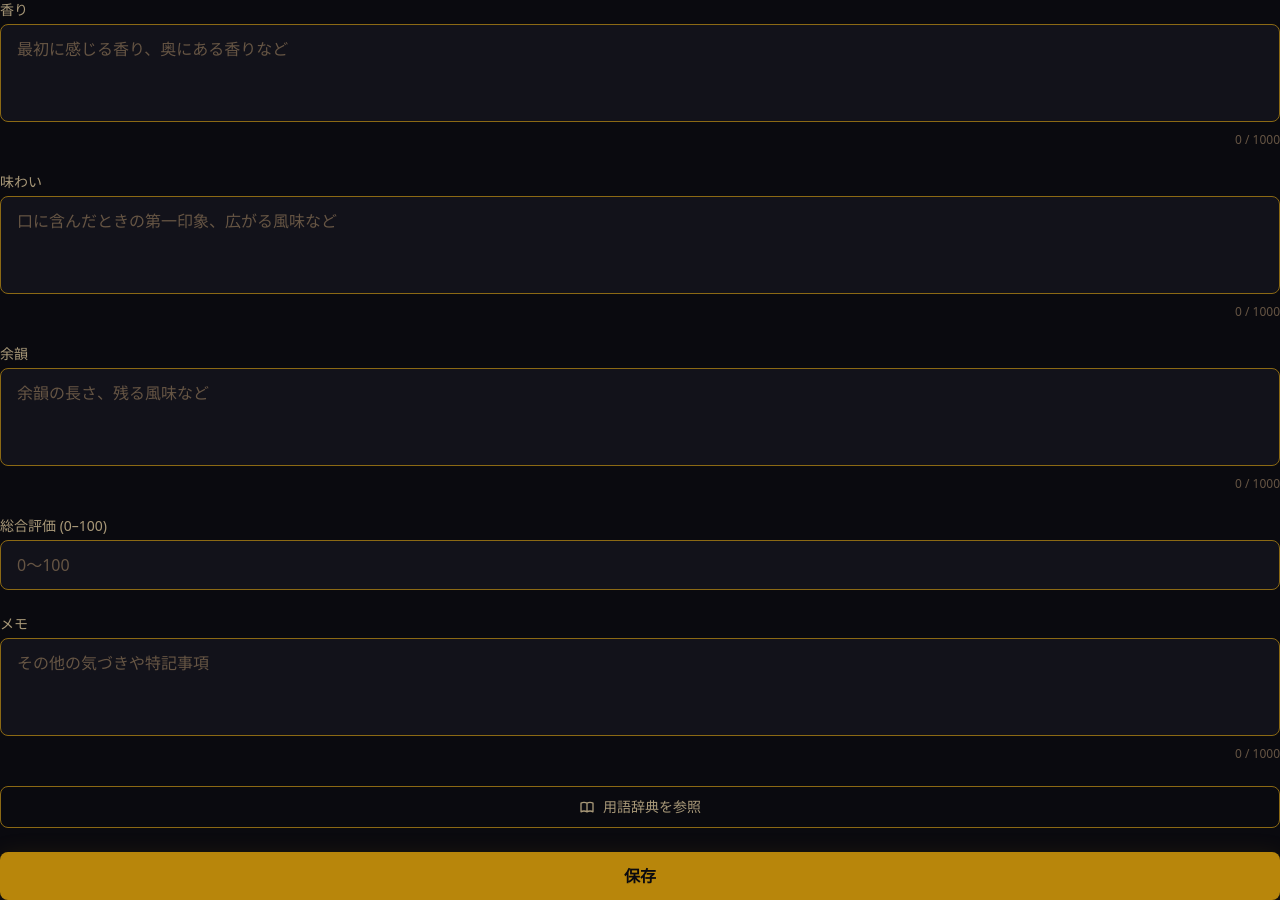
Scenario: 用語辞典モーダル › ボタンクリックで GlossaryModal が表示される
The image size is (1280, 900).
(page scrolled)
Click the button "用語辞典を参照" at (640, 807), box x1=0 y1=786 x2=1279 y2=828
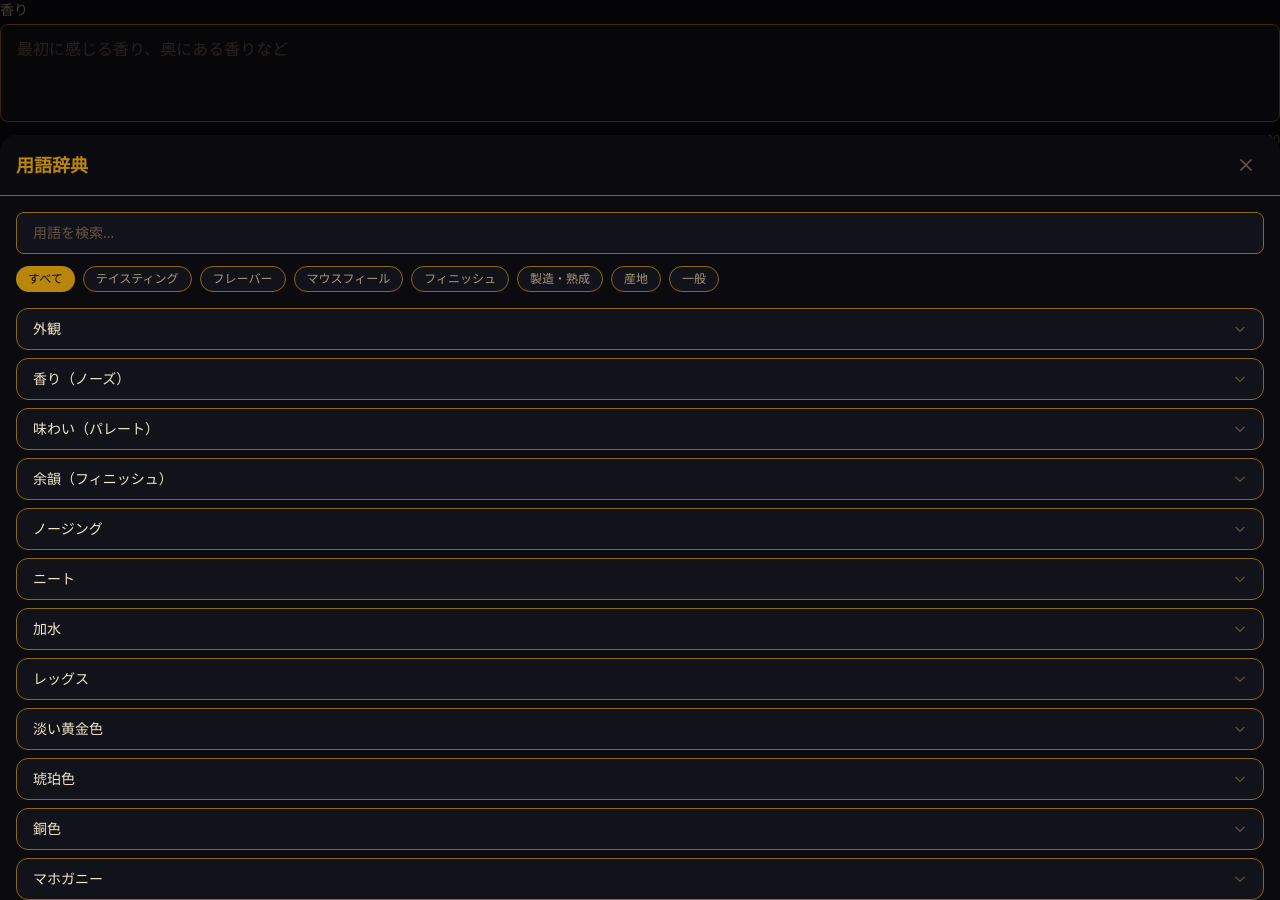
Expected: the heading "用語辞典" is shown, x1=16 y1=151 x2=88 y2=179
